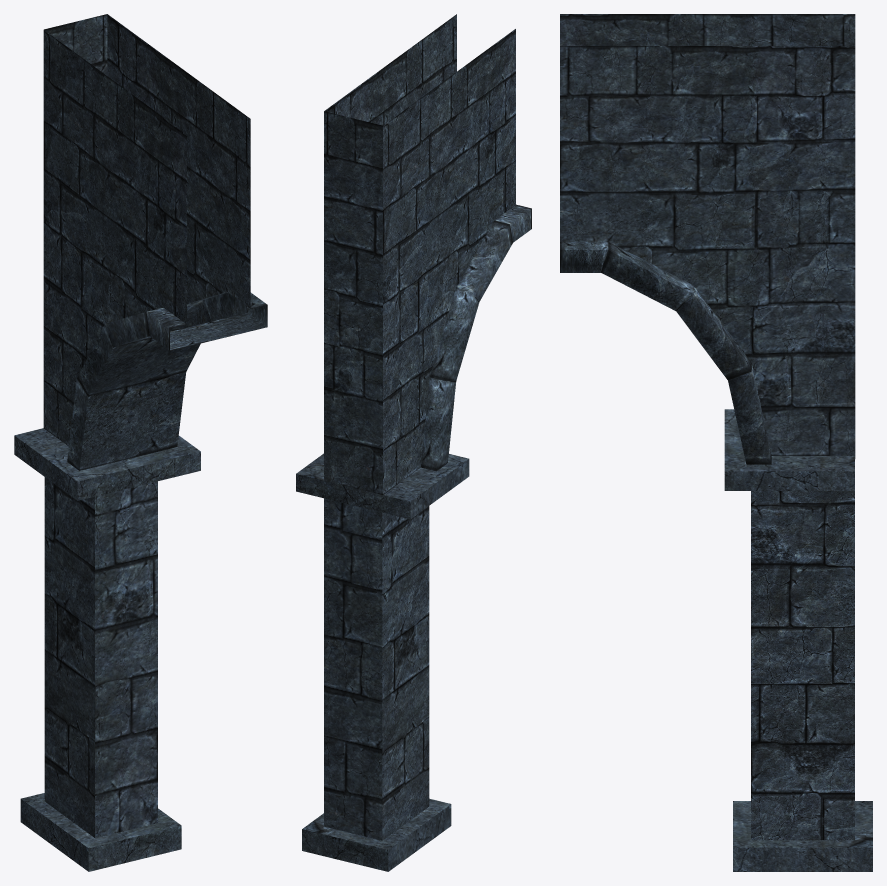
Rendered from Arch_end.FBX.
3 renders of one model, left to right at view 1: azimuth 30°, elevation 25°; view 2: azimuth 150°, elevation 25°; view 3: azimuth 270°, elevation 25°, orthographic. The views are drawn at different scales.
Parts seen in each view (by area): view 1: Arch_end; view 2: Arch_end; view 3: Arch_end.
Boxes of the visible parts, bbox=[...] form: Arch_end: bbox=[14, 14, 267, 871]; Arch_end: bbox=[296, 14, 531, 871]; Arch_end: bbox=[560, 14, 872, 871].
Size of the model in its own units: 11.42 by 70.27 by 24.34.
2 materials, 2 textured.
